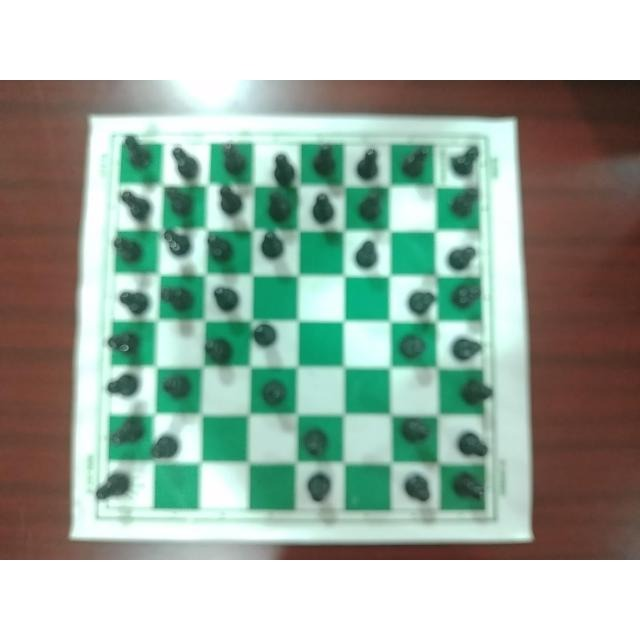black-pawn: (446, 469, 490, 504), (94, 469, 132, 504), (399, 469, 433, 505), (456, 427, 492, 460), (120, 134, 154, 168), (120, 188, 154, 222), (400, 143, 432, 179), (105, 368, 143, 398), (150, 430, 188, 460), (168, 144, 200, 179), (166, 183, 198, 218), (450, 142, 482, 176), (112, 232, 146, 264), (204, 230, 236, 264), (448, 332, 484, 362), (303, 425, 333, 461), (311, 141, 339, 179), (446, 241, 479, 273), (304, 470, 336, 503), (216, 142, 247, 176), (160, 227, 194, 258), (161, 370, 196, 400), (107, 417, 142, 447), (450, 185, 482, 217), (452, 281, 484, 313), (204, 332, 236, 364), (400, 415, 432, 447), (456, 377, 492, 405), (353, 236, 383, 269), (117, 287, 150, 317), (354, 146, 383, 180), (357, 188, 385, 223), (158, 283, 194, 310), (107, 328, 143, 355), (269, 152, 297, 186), (265, 190, 293, 223), (215, 182, 243, 215), (252, 319, 282, 349), (310, 192, 338, 224), (409, 286, 437, 318), (397, 332, 428, 360), (260, 377, 291, 405), (212, 283, 240, 313), (260, 228, 286, 260)
